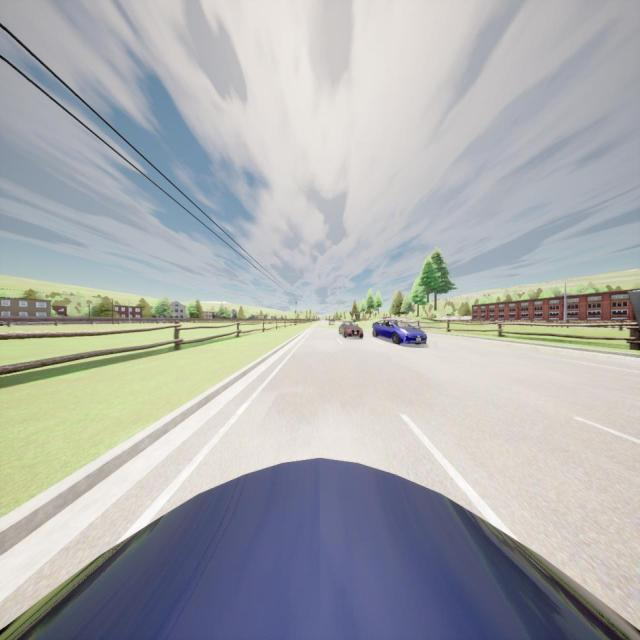Vehicle: (0, 456, 640, 640), (372, 319, 427, 346), (338, 320, 364, 339)
